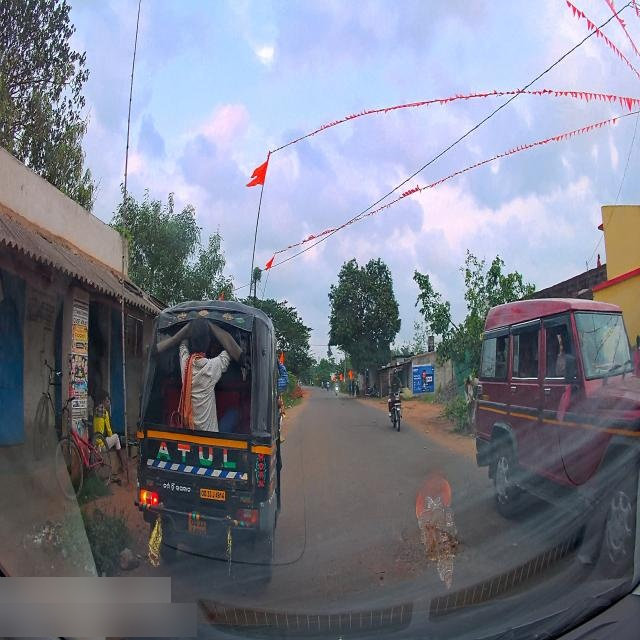pothole: (395, 519, 431, 574), (456, 539, 471, 563)
